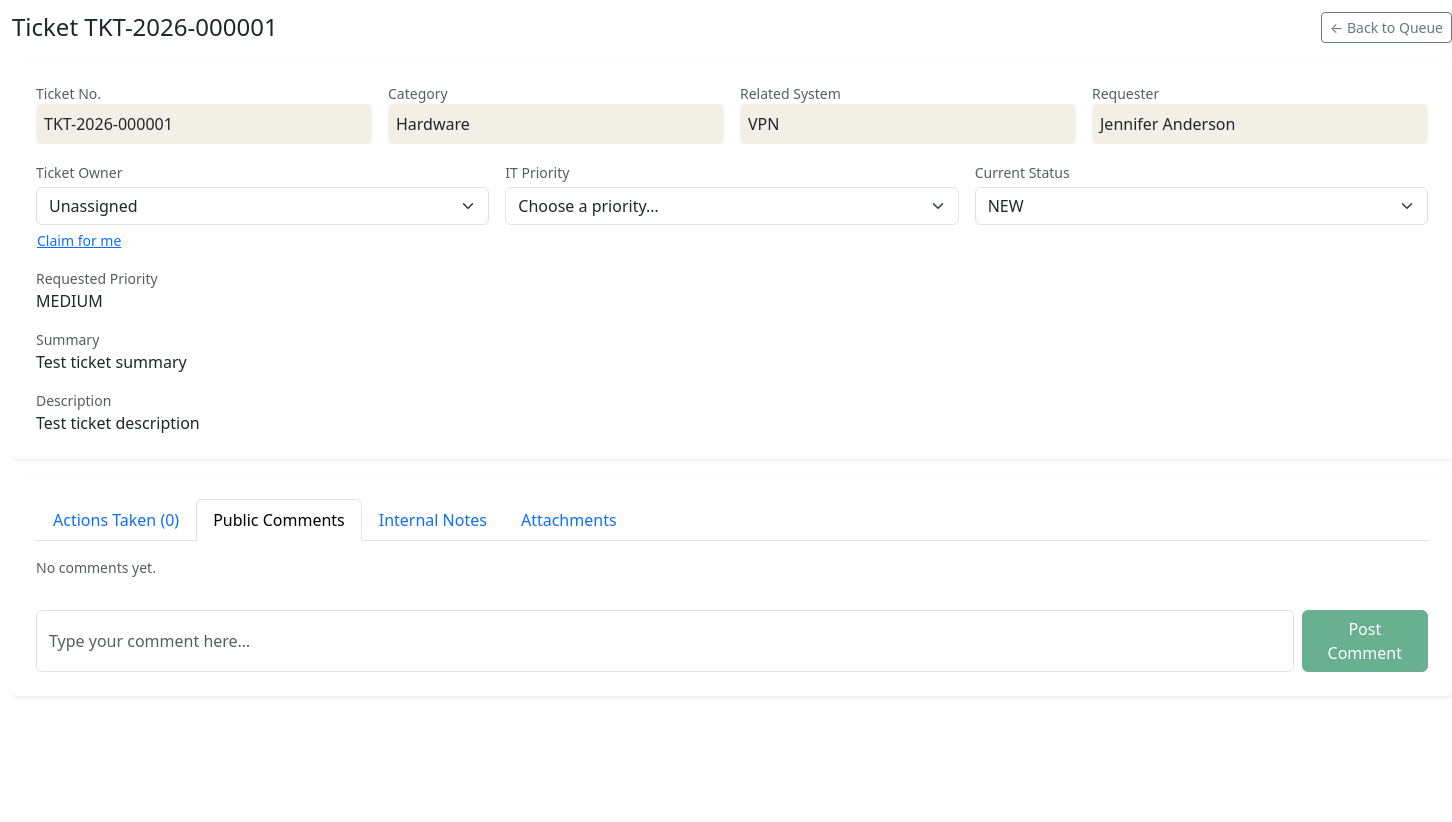
Test: Actions Taken — IT Staff Ticket Detail › shows the empty state, then a populated list with a Follow-up needed badge (UI-01)
This screenshot has width=1452, height=822.
Click the button "Actions Taken (0)" at (116, 520), box x1=36 y1=499 x2=196 y2=541
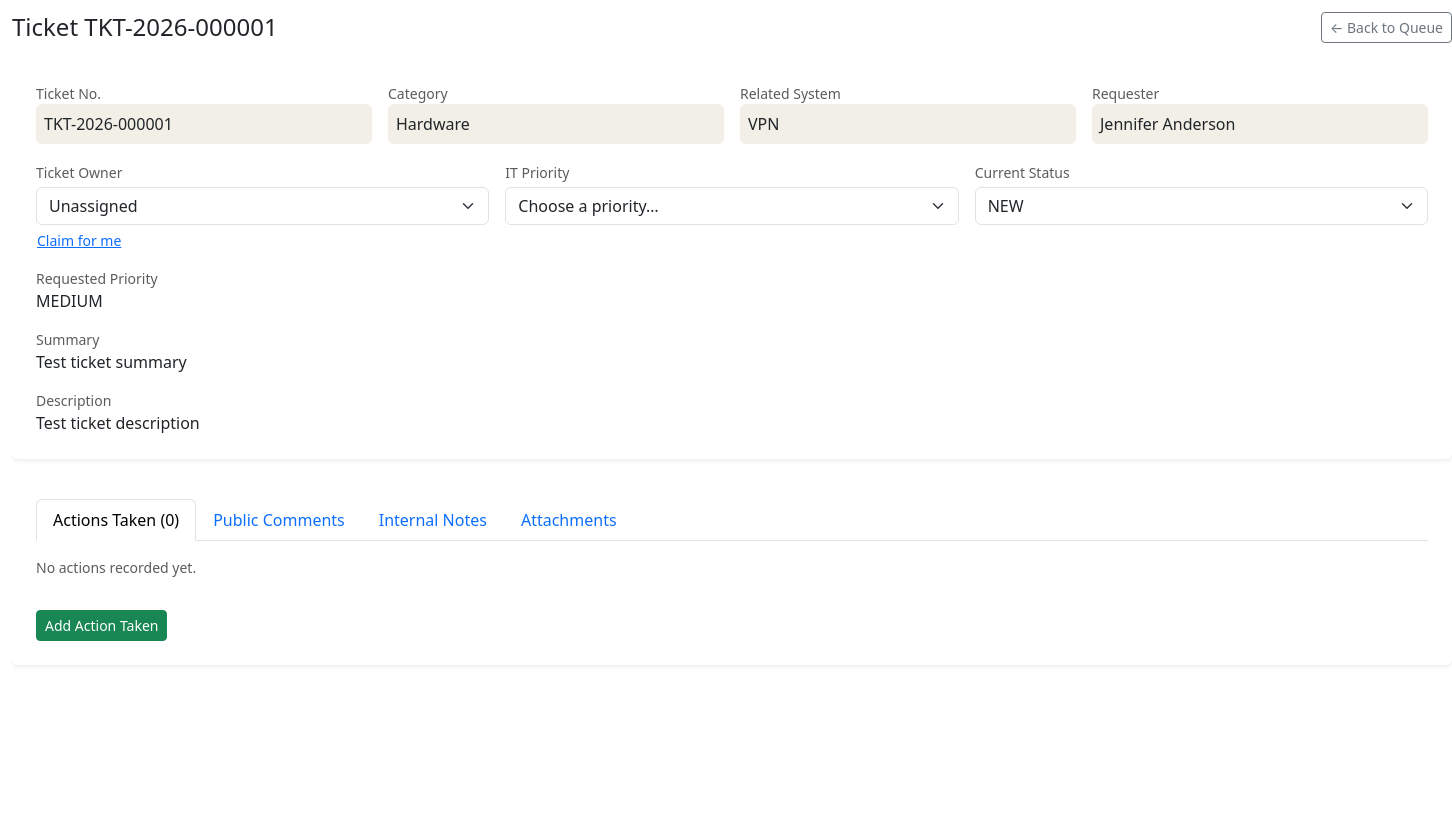
expect the text "No actions recorded yet." is shown: met, box x1=36 y1=558 x2=196 y2=577
